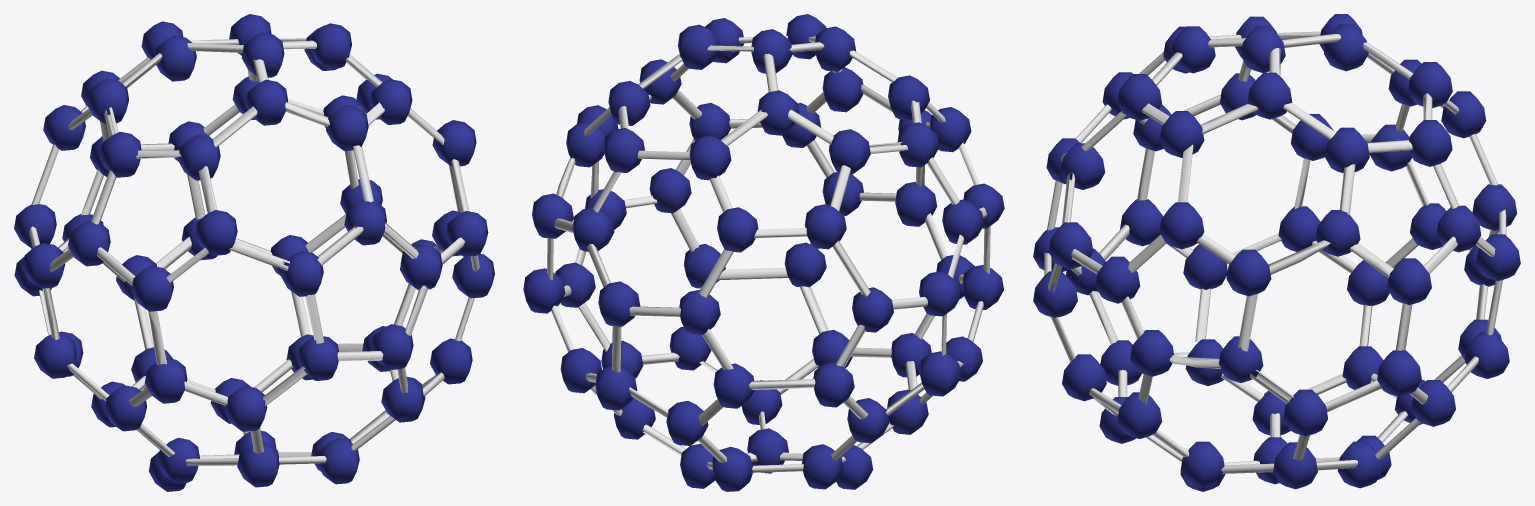
3 renders of one model, left to right at view 1: azimuth 30°, elevation 25°; view 2: azimuth 150°, elevation 25°; view 3: azimuth 270°, elevation 25°, orthographic. The views are drawn at different scales.
Parts seen in each view (by area): view 1: C60; view 2: C60; view 3: C60.
Boxes of the visible parts, x1=… form: C60: x1=14, y1=14, x2=494, y2=491; C60: x1=523, y1=14, x2=1004, y2=491; C60: x1=1033, y1=14, x2=1520, y2=491.
Bounding box in the file's own units: 103 × 105 × 102.
1 material, 1 textured.
